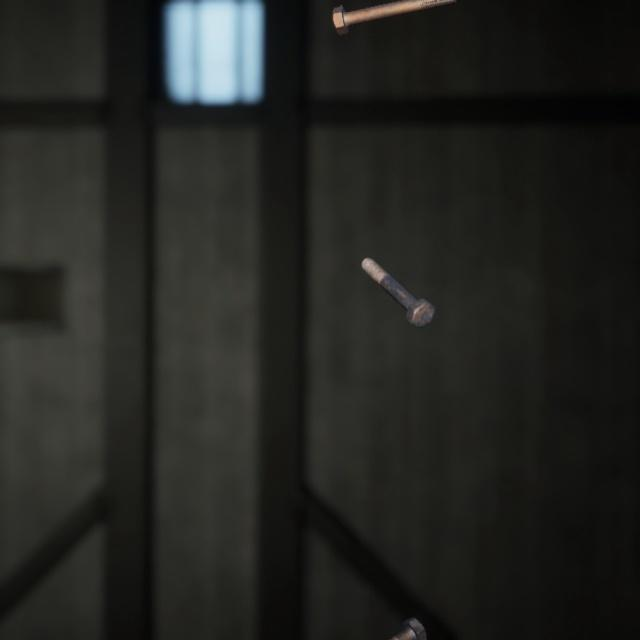bolt: (356, 237, 439, 316), (327, 0, 444, 33), (360, 590, 430, 640)
